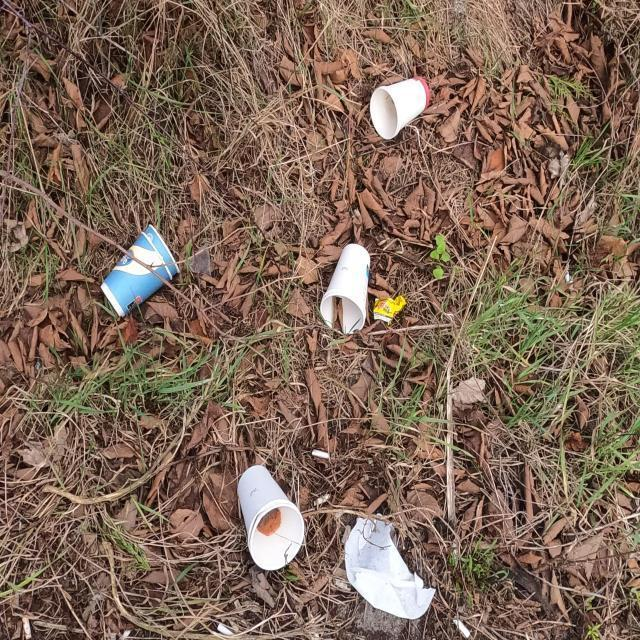Cup: (237, 464, 306, 572), (100, 230, 173, 318), (320, 242, 372, 338), (369, 75, 430, 141), (144, 223, 180, 277)
Mask: (344, 512, 436, 620)
Plastic: (373, 294, 407, 326)
